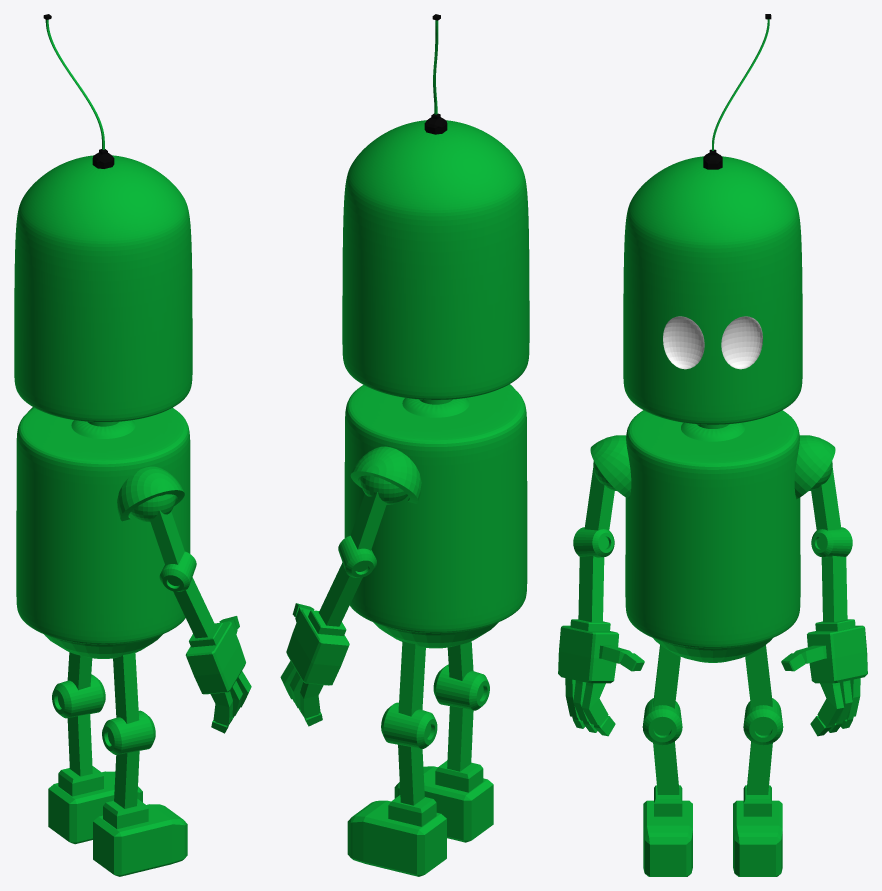
File: Android.fbx
3 views of the same model, side by side, from view 1: azimuth 30°, elevation 25°; view 2: azimuth 150°, elevation 25°; view 3: azimuth 270°, elevation 25° (orthographic). The views are drawn at different scales.
Parts seen in each view (by area): view 1: Cube.009; view 2: Cube.009; view 3: Cube.009.
Boxes of the visible parts, x1,y1,x2,y2 form: Cube.009: (14, 14, 251, 876); Cube.009: (280, 14, 529, 876); Cube.009: (558, 14, 867, 876).
Size of the model in its own units: 75.28 by 340 by 116.
